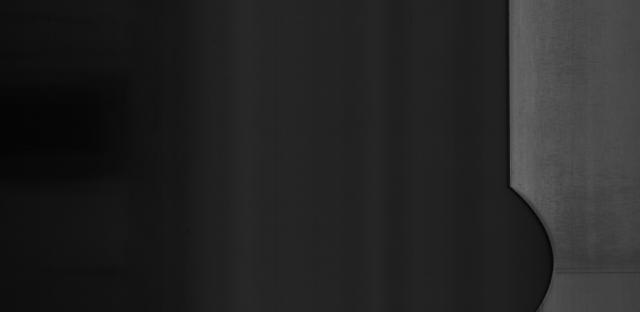crescent_gap: (492, 176, 565, 311)
welding_line: (547, 261, 640, 279)
